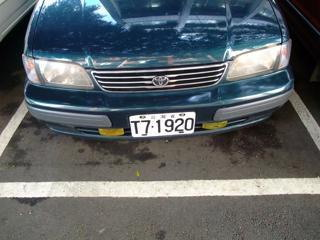plate: (127, 113, 195, 138)
